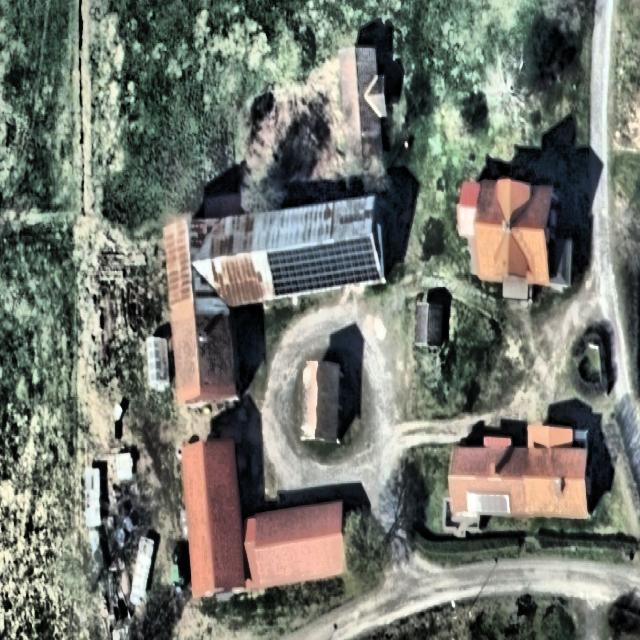roof_pv: (266, 246, 310, 299), (343, 236, 382, 288), (308, 242, 345, 296)
